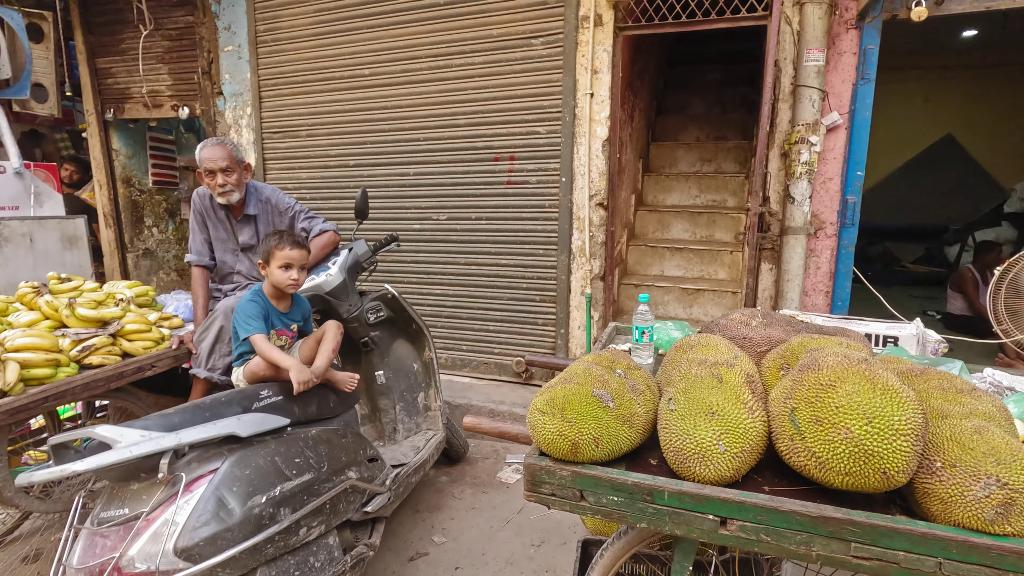garbage: (630, 292, 656, 376), (495, 465, 525, 485)
